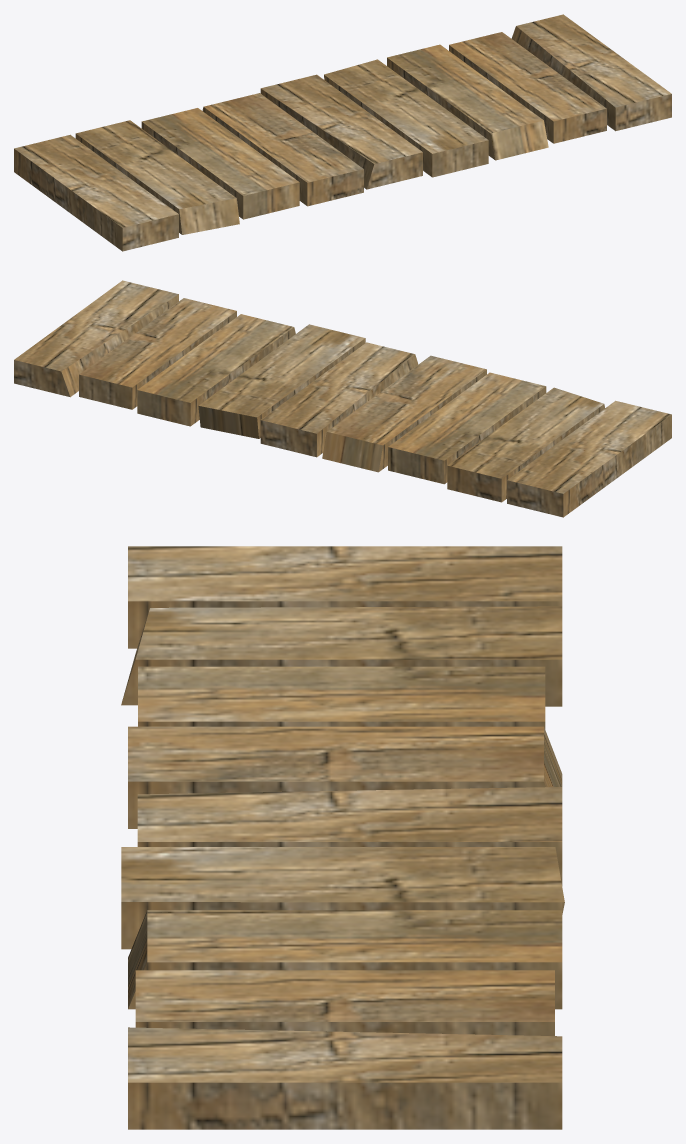
File: P_Modul_29.FBX
The picture shows the model from 3 angles, top to bottom: view 1: azimuth 30°, elevation 25°; view 2: azimuth 150°, elevation 25°; view 3: azimuth 270°, elevation 25°; orthographic projection. The views are drawn at different scales.
Parts seen in each view (by area): view 1: P_Modul_29_Platte01, P_Modul_29_Platte09, P_Modul_29_Platte06, P_Modul_29_Platte07, P_Modul_29_Platte05, P_Modul_29_Platte04, P_Modul_29_Platte03, P_Modul_29_Platte02, P_Modul_29_Platte08; view 2: P_Modul_29_Platte01, P_Modul_29_Platte09, P_Modul_29_Platte04, P_Modul_29_Platte06, P_Modul_29_Platte05, P_Modul_29_Platte03, P_Modul_29_Platte07, P_Modul_29_Platte02, P_Modul_29_Platte08; view 3: P_Modul_29_Platte09, P_Modul_29_Platte06, P_Modul_29_Platte04, P_Modul_29_Platte01, P_Modul_29_Platte07, P_Modul_29_Platte02, P_Modul_29_Platte08, P_Modul_29_Platte03, P_Modul_29_Platte05.
Part boxes in pixels (bbox=[...]): P_Modul_29_Platte01: bbox=[14, 134, 178, 251]; P_Modul_29_Platte09: bbox=[511, 14, 671, 131]; P_Modul_29_Platte06: bbox=[324, 59, 488, 177]; P_Modul_29_Platte07: bbox=[387, 44, 548, 160]; P_Modul_29_Platte05: bbox=[260, 74, 422, 189]; P_Modul_29_Platte04: bbox=[202, 93, 363, 206]; P_Modul_29_Platte03: bbox=[141, 108, 299, 219]; P_Modul_29_Platte02: bbox=[75, 120, 239, 234]; P_Modul_29_Platte08: bbox=[449, 32, 606, 143]; P_Modul_29_Platte01: bbox=[507, 400, 671, 517]; P_Modul_29_Platte09: bbox=[14, 280, 178, 397]; P_Modul_29_Platte04: bbox=[322, 355, 486, 472]; P_Modul_29_Platte06: bbox=[198, 324, 365, 438]; P_Modul_29_Platte05: bbox=[260, 342, 418, 457]; P_Modul_29_Platte03: bbox=[388, 372, 546, 484]; P_Modul_29_Platte07: bbox=[137, 314, 295, 426]; P_Modul_29_Platte02: bbox=[447, 387, 604, 502]; P_Modul_29_Platte08: bbox=[79, 298, 236, 409]; P_Modul_29_Platte09: bbox=[128, 1027, 562, 1129]; P_Modul_29_Platte06: bbox=[121, 847, 564, 949]; P_Modul_29_Platte04: bbox=[128, 726, 562, 828]; P_Modul_29_Platte01: bbox=[128, 546, 562, 648]; P_Modul_29_Platte07: bbox=[128, 910, 562, 1009]; P_Modul_29_Platte02: bbox=[121, 606, 562, 706]; P_Modul_29_Platte08: bbox=[135, 970, 554, 1035]; P_Modul_29_Platte03: bbox=[138, 666, 545, 728]; P_Modul_29_Platte05: bbox=[137, 787, 562, 885].
Bounding box in the file's own units: 14.61 × 0.6 × 5.11.
1 material, 1 textured.
